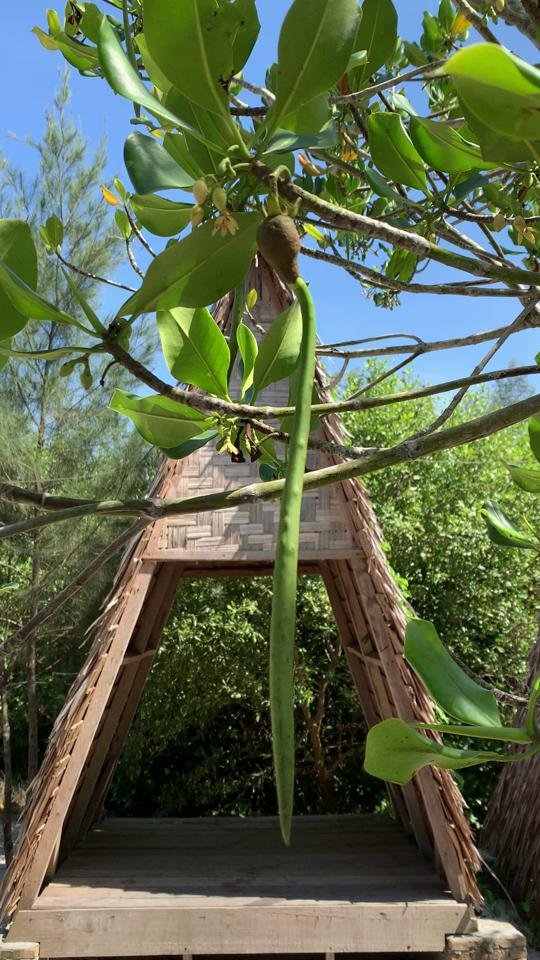setengah matang: (246, 192, 338, 848)
